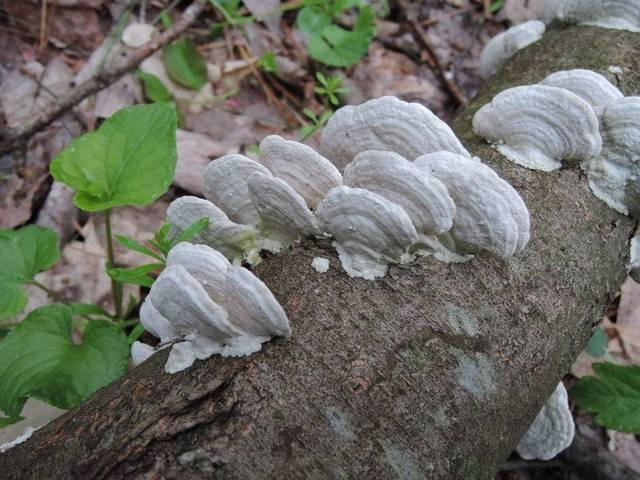poisonous_mushroom: (133, 92, 532, 373), (134, 240, 292, 374)
